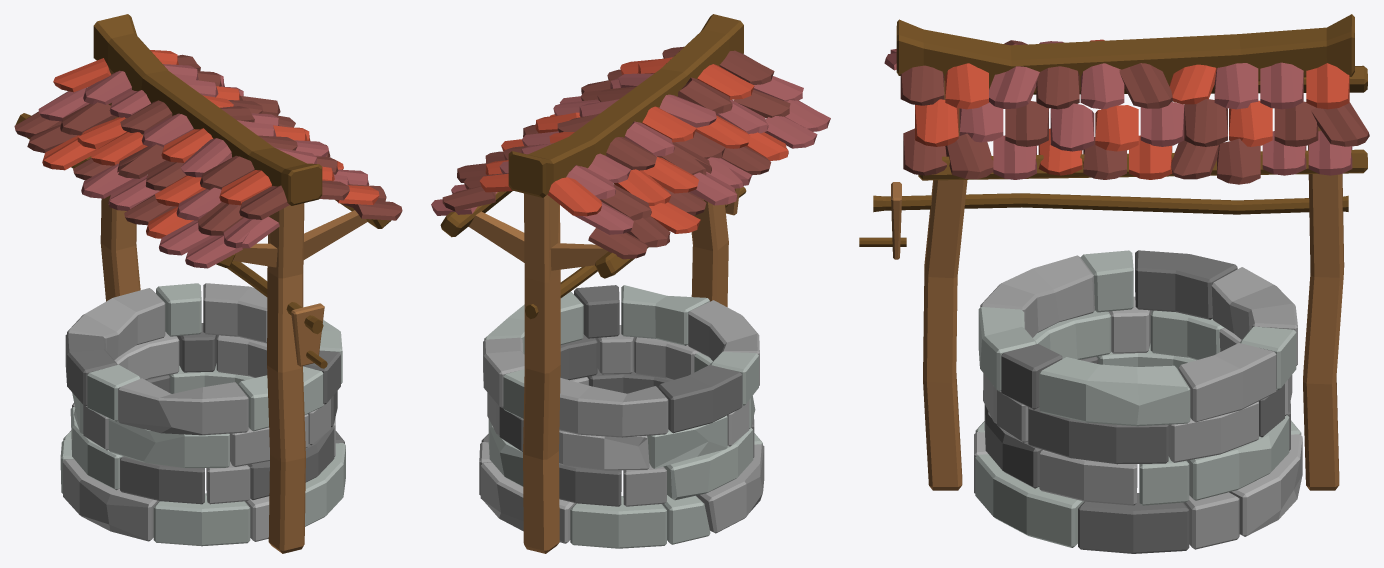
Rendered from well well well.fbx.
3 renders of one model, left to right at view 1: azimuth 30°, elevation 25°; view 2: azimuth 150°, elevation 25°; view 3: azimuth 270°, elevation 25°, orthographic. The views are drawn at different scales.
Parts seen in each view (by area): view 1: Cube; view 2: Cube; view 3: Cube.
Part boxes in pixels (x1,y1,x2,y2): Cube: (14,14,402,553); Cube: (431,14,830,553); Cube: (859,14,1369,553).
Size of the model in its own units: 1395 by 2152 by 2149.
